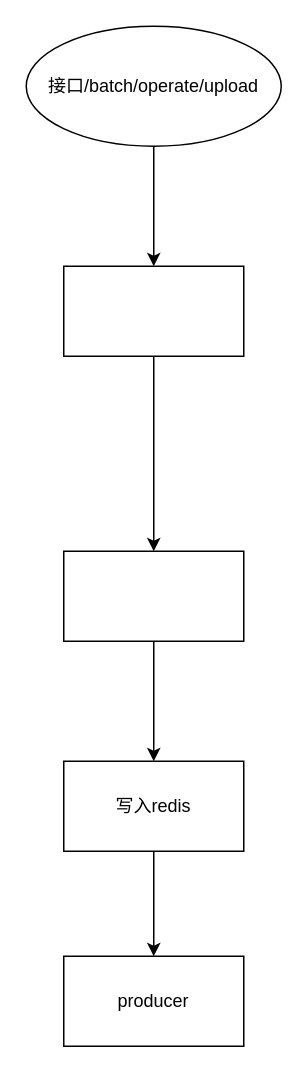
Image size: 308x1073. Some labels were removed from this diagram. The shapes that lost their labels are listed below. From the top down, each one's centre as x and y in pixels, then its label:
the point at 153,310: oss保存
the point at 153,595: batch_upload_operate
